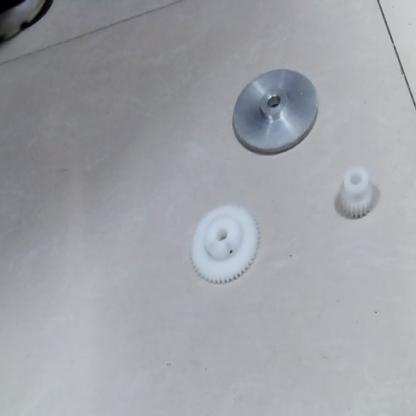FOD: (230, 69, 321, 162), (188, 204, 265, 287), (334, 160, 376, 219)
